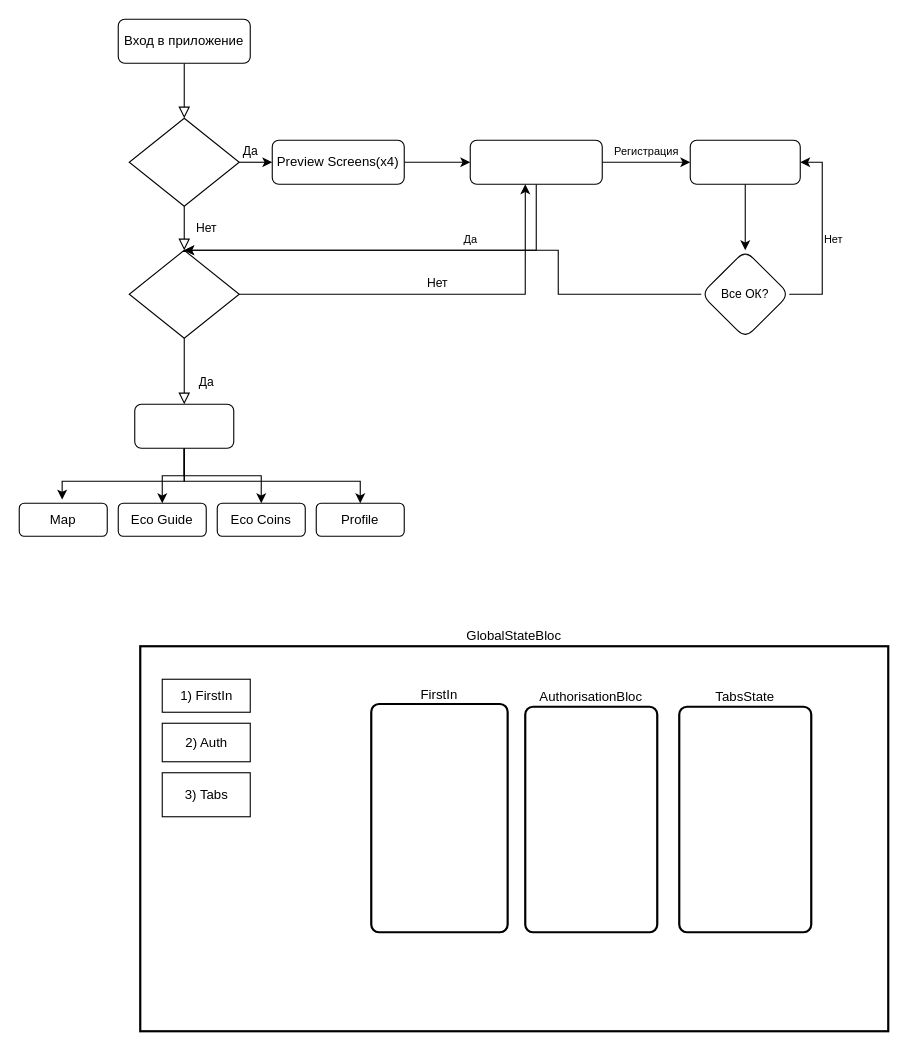
The diagram is 909 pixels wide and 1052 high, and some of its shapes have lost their labels. Here are the shapes that lost their labels. From the top down, the centre of each, then its label:
At (x=183, y=161): "Вход первый?".
At (x=535, y=161): "Authorization Screen".
At (x=744, y=161): "Registration Screen".
At (x=183, y=293): "Пользователь авторизован?".
At (x=184, y=425): "Tabs".
